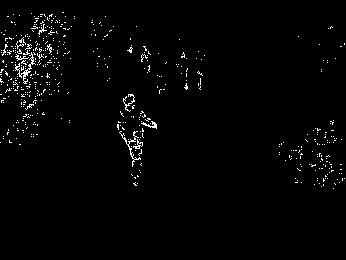person: (116, 92, 157, 188)
